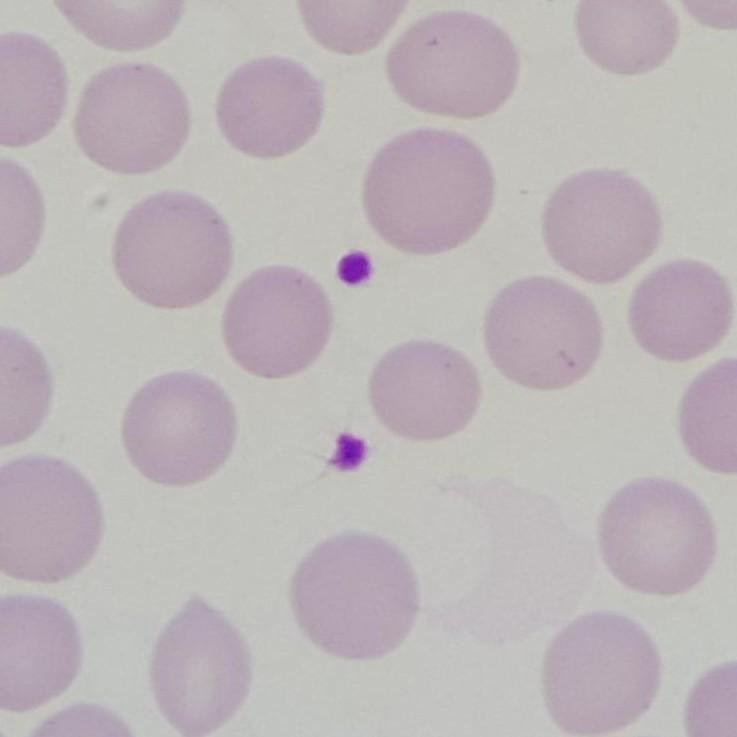Uninfected: (363, 124, 494, 254), (292, 536, 423, 664), (145, 592, 258, 737), (388, 4, 518, 117), (542, 611, 658, 737), (117, 191, 233, 311), (483, 276, 601, 393), (75, 57, 187, 176), (548, 169, 662, 285), (2, 456, 106, 583), (223, 266, 335, 381), (605, 474, 708, 597), (122, 371, 231, 486), (372, 337, 484, 444), (627, 257, 737, 363), (218, 52, 319, 164), (575, 0, 681, 74)
